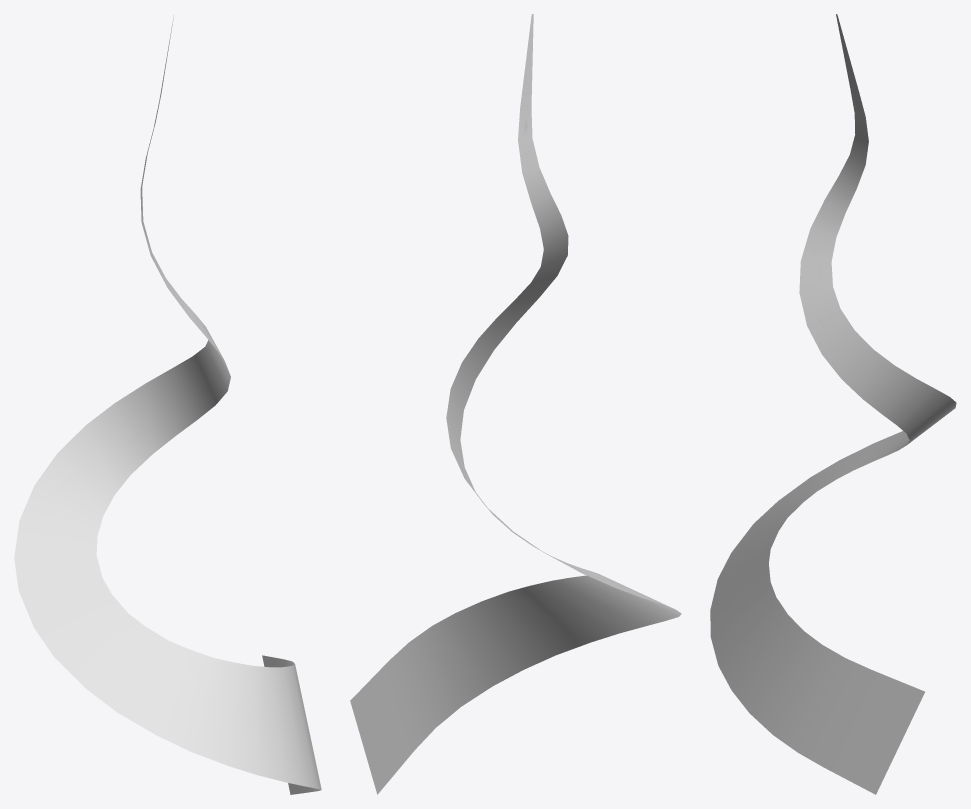
The model's file is ef-common-w2-skill0022-E02-01.FBX.
3 renders of one model, left to right at view 1: azimuth 30°, elevation 25°; view 2: azimuth 150°, elevation 25°; view 3: azimuth 270°, elevation 25°, orthographic. The views are drawn at different scales.
Parts seen in each view (by area): view 1: ef-common-w2-skill0022-E02-01; view 2: ef-common-w2-skill0022-E02-01; view 3: ef-common-w2-skill0022-E02-01.
Boxes of the visible parts, x1=… form: ef-common-w2-skill0022-E02-01: x1=14, y1=15, x2=321, y2=794; ef-common-w2-skill0022-E02-01: x1=350, y1=14, x2=681, y2=794; ef-common-w2-skill0022-E02-01: x1=710, y1=14, x2=956, y2=794.
Bounding box in the file's own units: 51.53 × 148 × 45.6.
